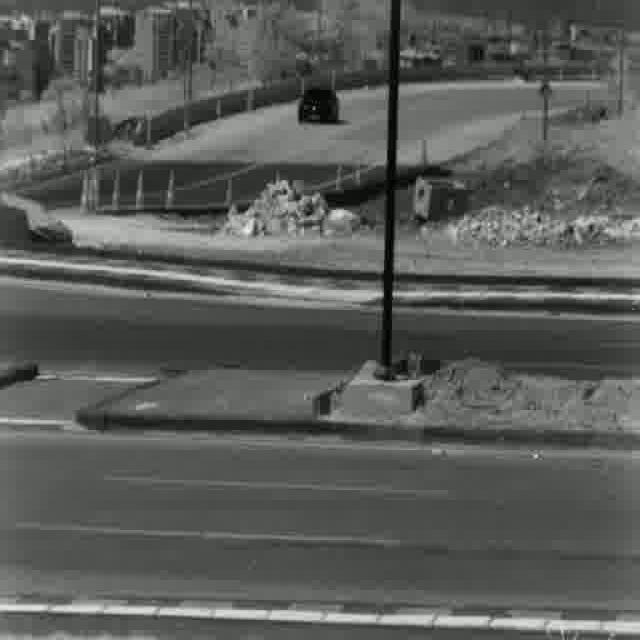Car: (298, 87, 338, 124)
